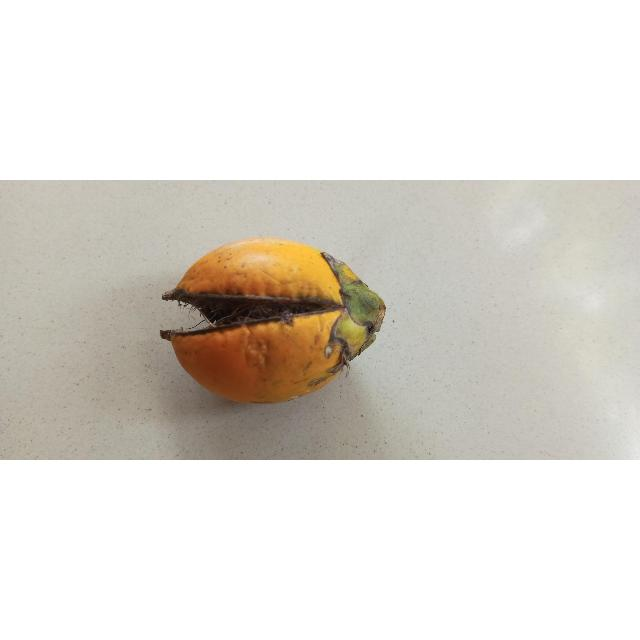damaged: (160, 238, 386, 404)
